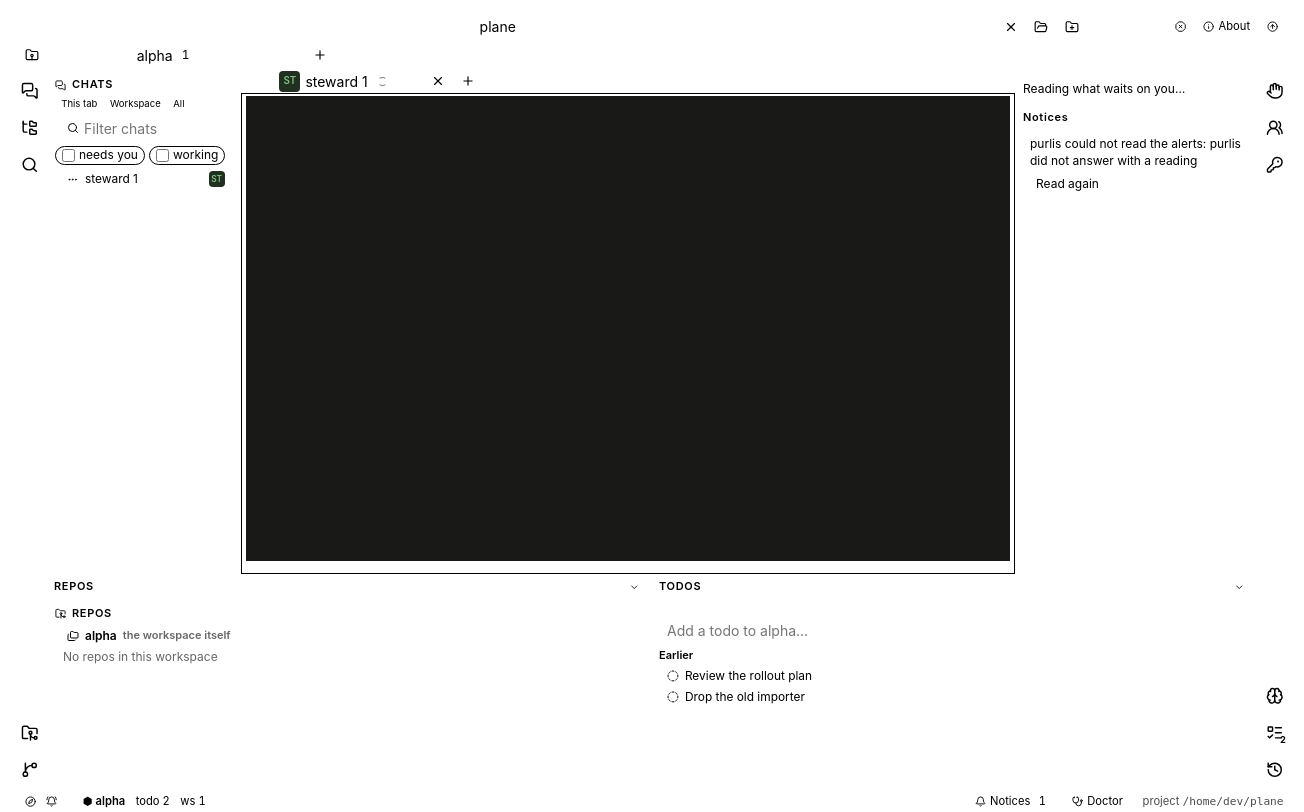
Scenario: a todo row › says the title as its text when the todo has no body
The width and height of the screenshot is (1304, 812).
Step 1. Click the button "Drop the old importer" → (745, 696), box [659,686,1250,708]
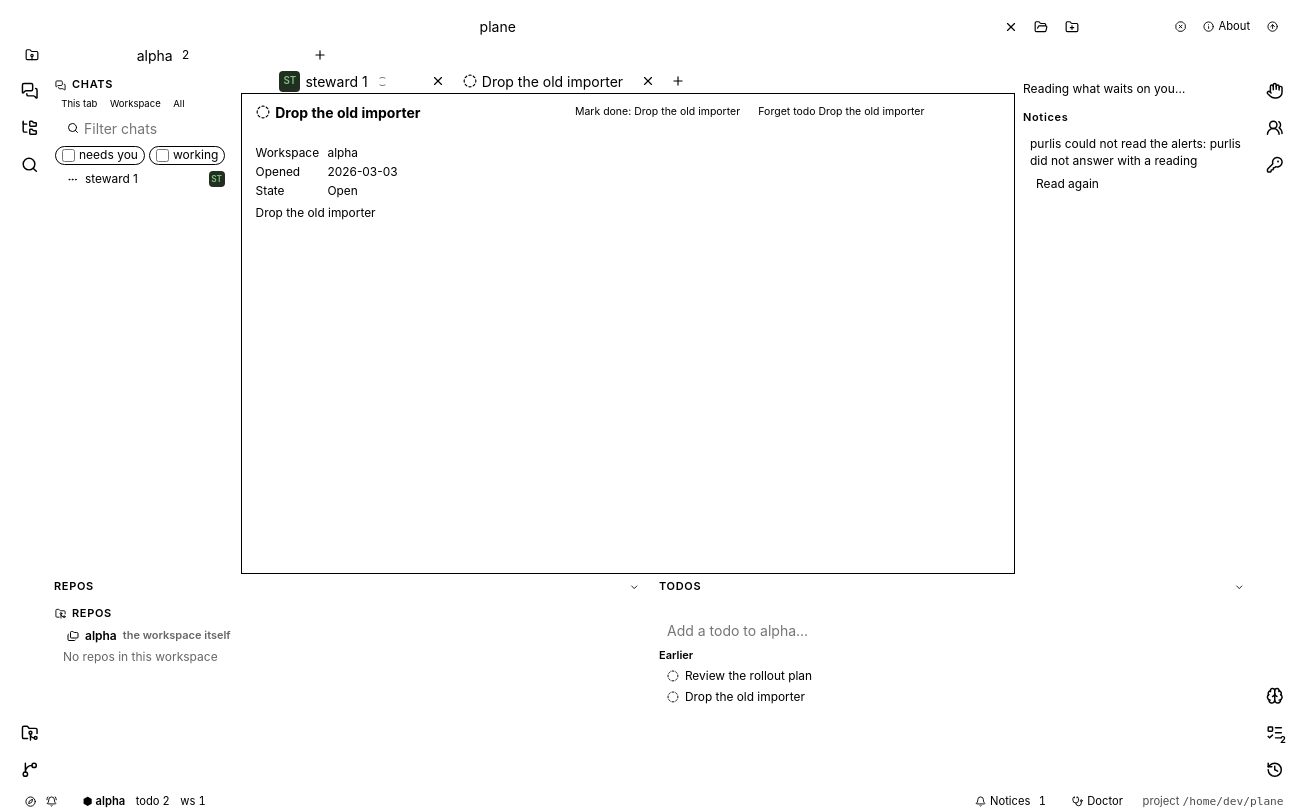
Check: the element with test id "todo-body" reads "Drop the old importer", box [256,205,376,220]
